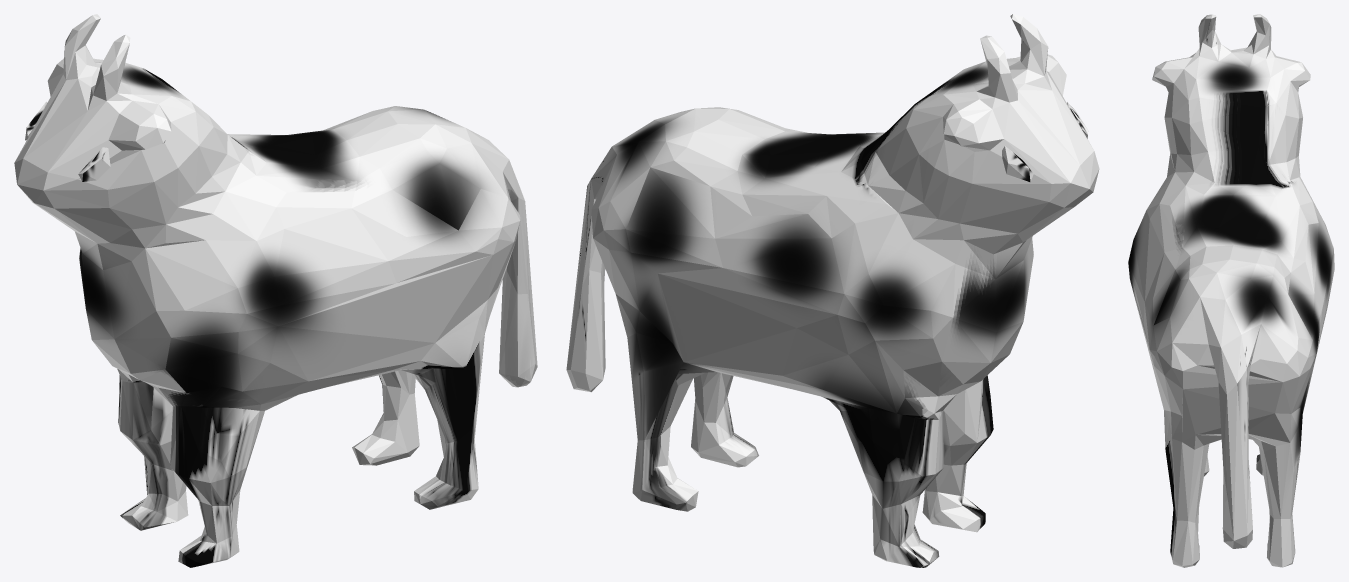
The model's file is Cow.fbx.
3 views of the same model, side by side, from view 1: azimuth 30°, elevation 25°; view 2: azimuth 150°, elevation 25°; view 3: azimuth 270°, elevation 25° (orthographic). The views are drawn at different scales.
Visible parts, largest first — view 1: Cube; view 2: Cube; view 3: Cube.
Boxes of the visible parts, <box> form: Cube: <box>14,14,537,567</box>; Cube: <box>566,14,1099,567</box>; Cube: <box>1128,14,1334,567</box>.
Bounding box in the file's own units: 2382 × 2339 × 1021.
